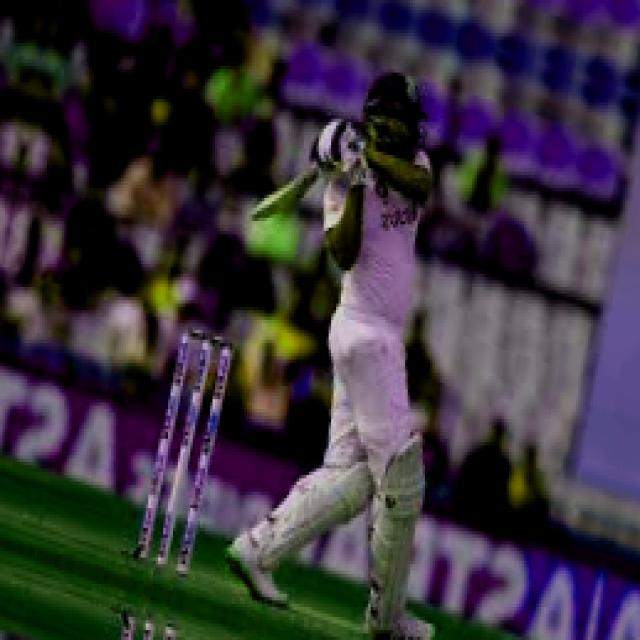toe: (250, 191, 276, 222)
